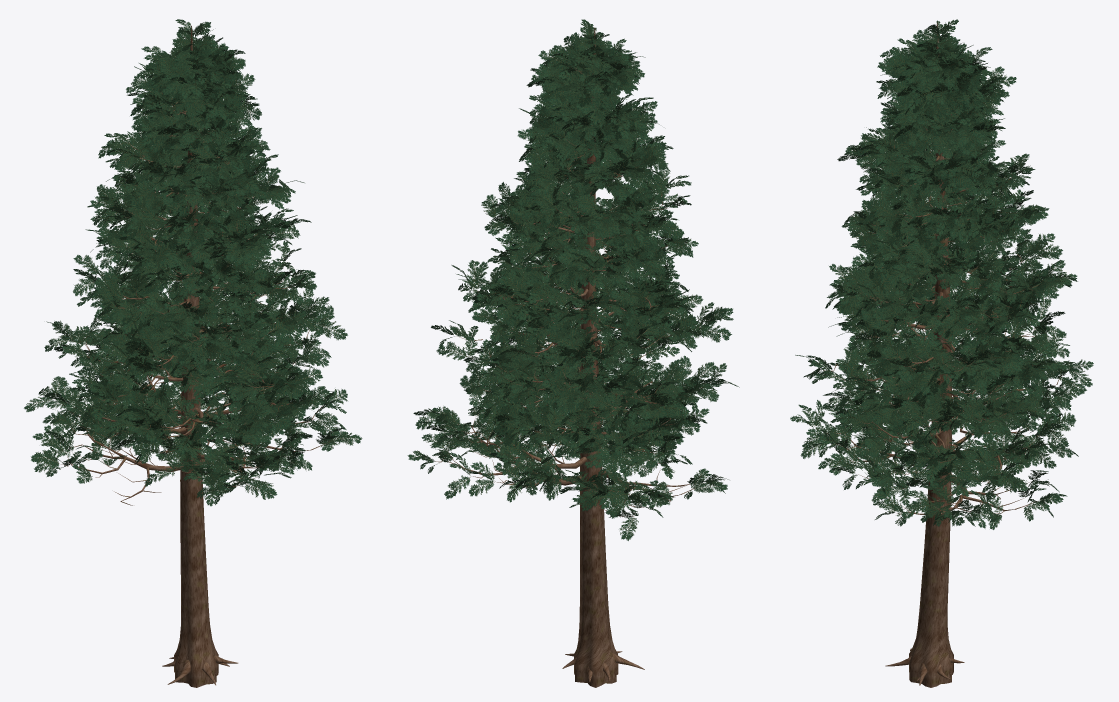
File: ForestPine.fbx
The picture shows the model from 3 angles, left to right: view 1: azimuth 30°, elevation 25°; view 2: azimuth 150°, elevation 25°; view 3: azimuth 270°, elevation 25°; orthographic projection.
Parts seen in each view (by area): view 1: ForestPine_LOD0; view 2: ForestPine_LOD0; view 3: ForestPine_LOD0.
Boxes of the visible parts, left/top/right/bottom form: ForestPine_LOD0: left=24, top=19, right=362, bottom=687; ForestPine_LOD0: left=407, top=19, right=739, bottom=687; ForestPine_LOD0: left=790, top=19, right=1093, bottom=687.
Size of what is drawn, in the model's own units: 1322 by 2505 by 1115.
Materials: 2 (2 with a texture image).
